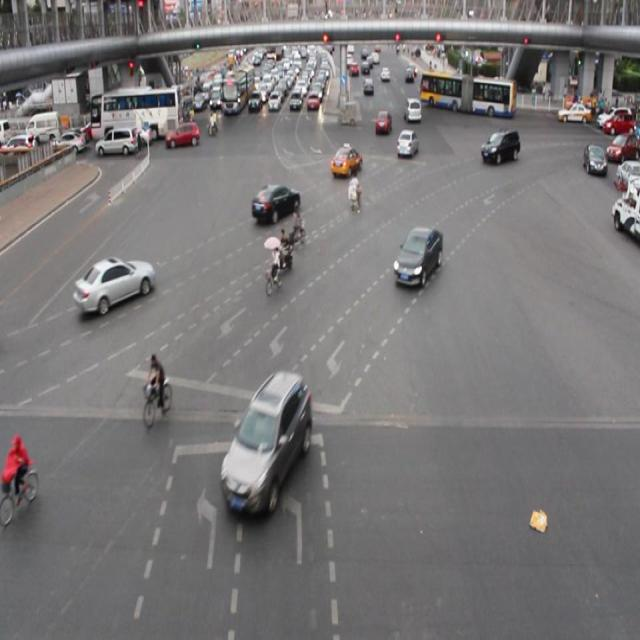BigCar: (88, 82, 184, 127), (424, 67, 518, 112)
car: (224, 372, 312, 516), (74, 237, 164, 335), (393, 216, 446, 289), (478, 123, 526, 177), (251, 178, 303, 225), (557, 95, 592, 133), (583, 135, 610, 180), (95, 128, 135, 158), (332, 139, 359, 179), (164, 123, 198, 151), (395, 132, 420, 156), (371, 106, 393, 130), (406, 94, 422, 117)
